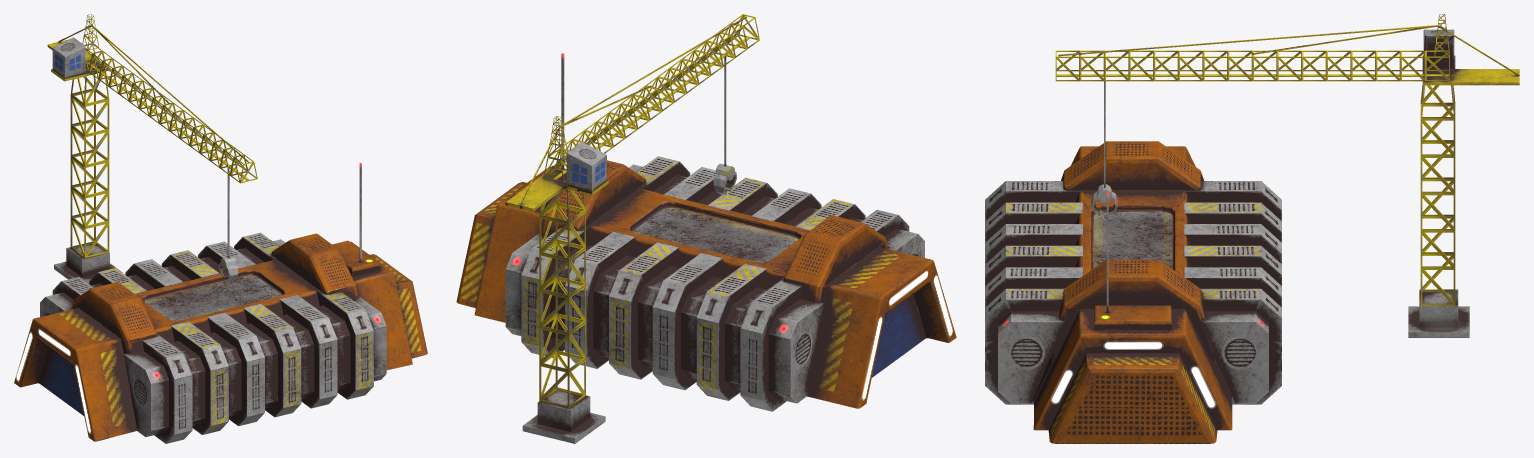
File: armory.glb
3 views of the same model, side by side, from view 1: azimuth 30°, elevation 25°; view 2: azimuth 150°, elevation 25°; view 3: azimuth 270°, elevation 25° (orthographic). The views are drawn at different scales.
Visible parts, largest first — view 1: Cube.024, Cube.011, Cube.012, Cube.013, Cube.010, Cube.020, Cube.023, Plane.009, Cube.022, Cube.021, Cube.014; view 2: Cube.024, Cube.011, Cube.013, Cube.012, Plane.009, Cube.010, Cube.022, Cube.023, Cube.020, Cube.021, Cube.014; view 3: Cube.011, Cube.024, Cube.012, Cube.013, Plane.009, Cube.022, Cube.010, Cube.020, Cube.021, Cube.014.
Part boxes in pixels (box(x1,y1,x2,y2)): Cube.024: box(40, 232, 386, 443); Cube.011: box(14, 163, 427, 441); Cube.012: box(85, 44, 257, 183); Cube.013: box(70, 90, 109, 258); Cube.010: box(155, 285, 281, 320); Cube.020: box(145, 275, 269, 309); Cube.023: box(39, 347, 83, 415); Plane.009: box(47, 37, 108, 81); Cube.022: box(54, 243, 122, 283); Cube.021: box(58, 25, 249, 162); Cube.014: box(70, 72, 109, 105); Cube.024: box(505, 156, 924, 411); Cube.011: box(456, 53, 956, 408); Cube.013: box(539, 205, 585, 408); Cube.012: box(543, 14, 759, 182); Plane.009: box(505, 142, 608, 211); Cube.010: box(648, 207, 798, 256); Cube.022: box(522, 389, 605, 443); Cube.023: box(871, 295, 925, 377); Cube.020: box(633, 220, 774, 262); Cube.021: box(519, 16, 746, 205); Cube.014: box(539, 188, 585, 223); Cube.011: box(1032, 141, 1232, 443); Cube.024: box(985, 181, 1281, 404); Cube.012: box(1055, 50, 1449, 81); Cube.013: box(1420, 105, 1455, 305); Plane.009: box(1422, 29, 1519, 85); Cube.022: box(1408, 289, 1469, 337); Cube.010: box(1094, 212, 1143, 267); Cube.020: box(1133, 212, 1172, 268); Cube.021: box(1058, 25, 1519, 75); Cube.014: box(1420, 85, 1455, 118).
Bounding box in the file's own units: 1.18 × 0.8976 × 1.31.
Materials: 1 (1 with a texture image).
